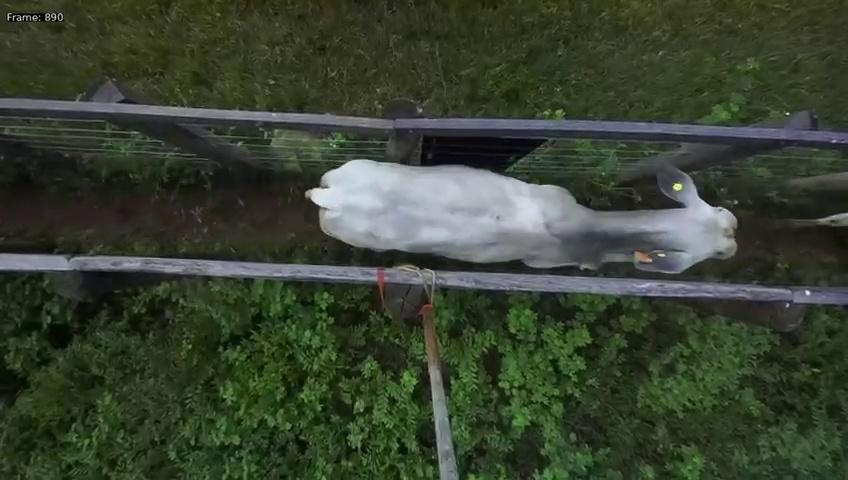cattle: (303, 156, 740, 275)
